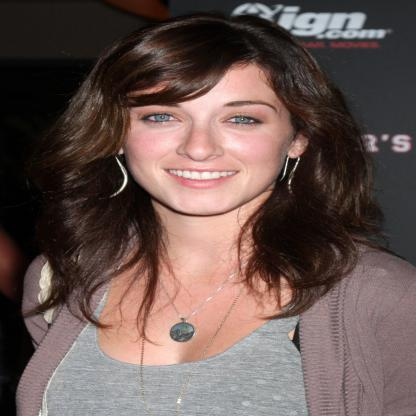long-hair: (25, 218, 379, 279)
